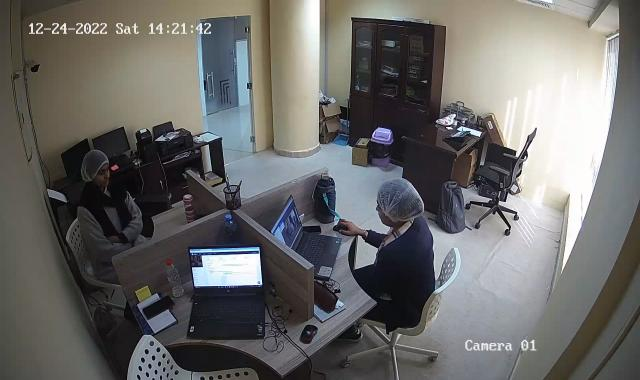hairnet: (376, 175, 424, 230), (77, 147, 111, 187)
